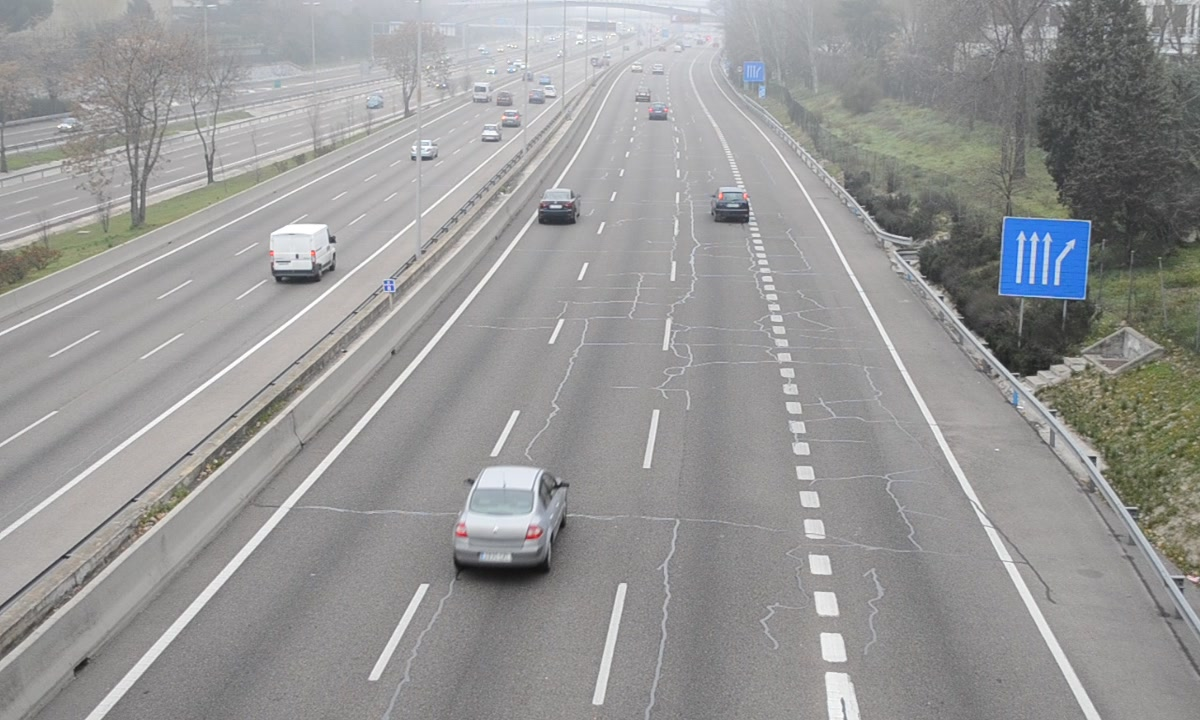car: (454, 467, 565, 570), (537, 188, 578, 223), (711, 186, 751, 221)
